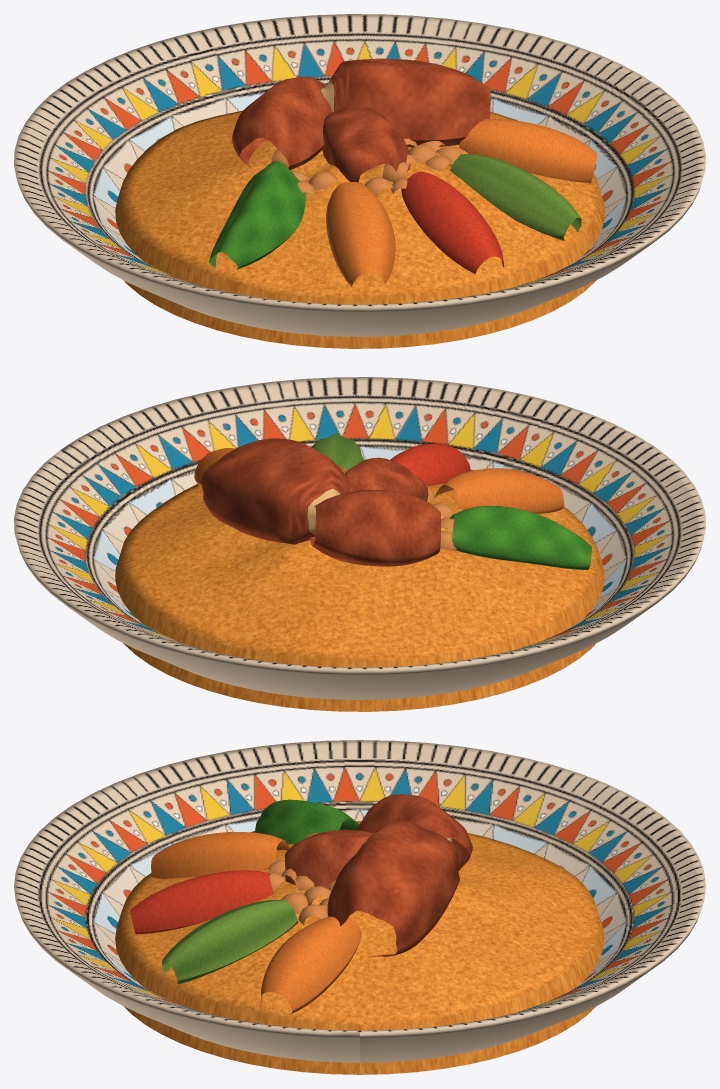
Rendered from Couscous_Plat_080pct.fbx.
3 views of the same model, one above another, from view 1: azimuth 30°, elevation 25°; view 2: azimuth 150°, elevation 25°; view 3: azimuth 270°, elevation 25° (orthographic).
Visible parts, largest first — view 1: 00_Plate_Tebsi_Ceramic, 01_Couscous_Semolina_Mound, 02_Meat_Lamb_Shank_Main, 03_Meat_Braised_Left, 06_Veg_Green_Pepper_Felfel, 10_Veg_Carrot_Right, 08_Veg_Pumpkin_Red_Front, 09_Veg_Zucchini_FrontRight, 07_Veg_Carrot_FrontLeft, 04_Meat_Braised_Front, 05_Chickpeas_Cluster; view 2: 00_Plate_Tebsi_Ceramic, 01_Couscous_Semolina_Mound, 02_Meat_Lamb_Shank_Main, 03_Meat_Braised_Left, 06_Veg_Green_Pepper_Felfel, 07_Veg_Carrot_FrontLeft, 04_Meat_Braised_Front, 08_Veg_Pumpkin_Red_Front, 09_Veg_Zucchini_FrontRight, 05_Chickpeas_Cluster; view 3: 00_Plate_Tebsi_Ceramic, 01_Couscous_Semolina_Mound, 02_Meat_Lamb_Shank_Main, 09_Veg_Zucchini_FrontRight, 10_Veg_Carrot_Right, 08_Veg_Pumpkin_Red_Front, 07_Veg_Carrot_FrontLeft, 04_Meat_Braised_Front, 03_Meat_Braised_Left, 06_Veg_Green_Pepper_Felfel, 05_Chickpeas_Cluster.
Boxes of the visible parts, bbox=[...] form: 00_Plate_Tebsi_Ceramic: bbox=[14, 14, 705, 336]; 01_Couscous_Semolina_Mound: bbox=[115, 110, 604, 348]; 02_Meat_Lamb_Shank_Main: bbox=[321, 58, 490, 147]; 03_Meat_Braised_Left: bbox=[232, 76, 332, 169]; 06_Veg_Green_Pepper_Felfel: bbox=[209, 161, 305, 269]; 10_Veg_Carrot_Right: bbox=[459, 119, 597, 182]; 08_Veg_Pumpkin_Red_Front: bbox=[401, 171, 503, 274]; 09_Veg_Zucchini_FrontRight: bbox=[450, 154, 581, 240]; 07_Veg_Carrot_FrontLeft: bbox=[326, 182, 395, 288]; 04_Meat_Braised_Front: bbox=[322, 105, 410, 182]; 05_Chickpeas_Cluster: bbox=[262, 138, 462, 197]; 00_Plate_Tebsi_Ceramic: bbox=[14, 377, 705, 699]; 01_Couscous_Semolina_Mound: bbox=[115, 460, 604, 711]; 02_Meat_Lamb_Shank_Main: bbox=[202, 438, 351, 544]; 03_Meat_Braised_Left: bbox=[310, 490, 440, 566]; 06_Veg_Green_Pepper_Felfel: bbox=[445, 505, 591, 570]; 07_Veg_Carrot_FrontLeft: bbox=[434, 468, 563, 513]; 04_Meat_Braised_Front: bbox=[344, 457, 428, 501]; 08_Veg_Pumpkin_Red_Front: bbox=[390, 443, 470, 486]; 09_Veg_Zucchini_FrontRight: bbox=[311, 433, 364, 471]; 05_Chickpeas_Cluster: bbox=[343, 472, 456, 550]; 00_Plate_Tebsi_Ceramic: bbox=[14, 740, 705, 1062]; 01_Couscous_Semolina_Mound: bbox=[115, 821, 604, 1074]; 02_Meat_Lamb_Shank_Main: bbox=[327, 818, 459, 957]; 09_Veg_Zucchini_FrontRight: bbox=[161, 899, 298, 984]; 10_Veg_Carrot_Right: bbox=[261, 916, 361, 1014]; 08_Veg_Pumpkin_Red_Front: bbox=[130, 870, 273, 934]; 07_Veg_Carrot_FrontLeft: bbox=[151, 832, 289, 878]; 04_Meat_Braised_Front: bbox=[285, 829, 373, 889]; 03_Meat_Braised_Left: bbox=[356, 794, 472, 871]; 06_Veg_Green_Pepper_Felfel: bbox=[255, 799, 359, 844]; 05_Chickpeas_Cluster: bbox=[268, 833, 335, 925].
Bounding box in the file's own units: 32 × 8.99 × 32.
